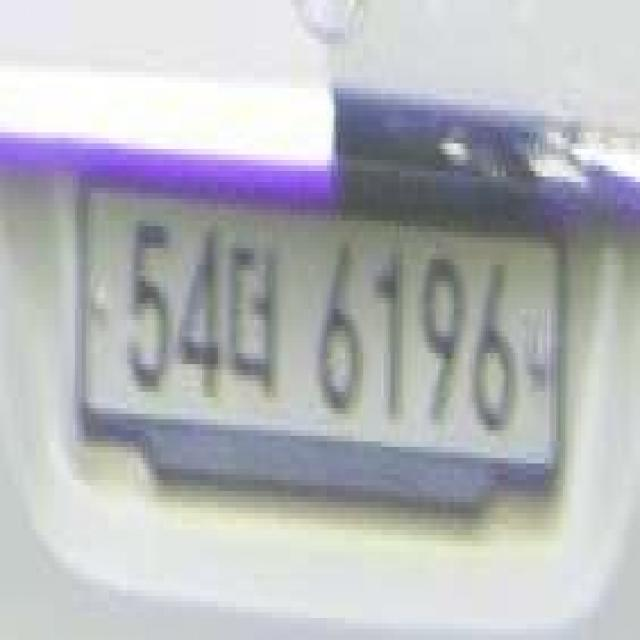1: (368, 233, 413, 420)
4: (174, 206, 224, 396)
5: (127, 207, 172, 397)
6: (312, 228, 366, 417), (468, 243, 522, 432)
9: (416, 242, 466, 422)
deo: (226, 210, 278, 399)
license_plate: (69, 145, 575, 536)
